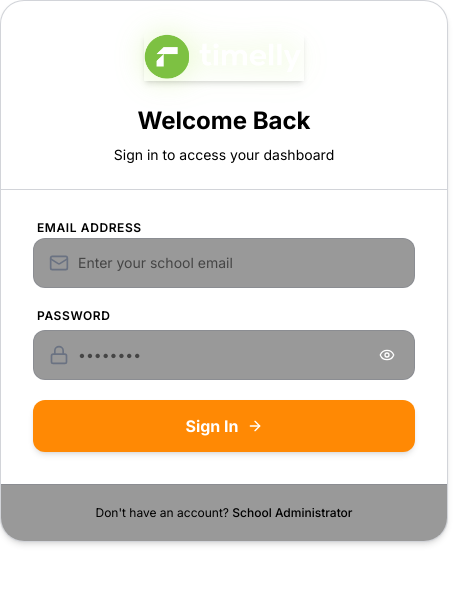
Test: LoginForm › shows error when signIn returns error
Step 1. Type "test@school.com" into the field with placeholder "Enter your school email" → (224, 263), box [33,238,415,288]
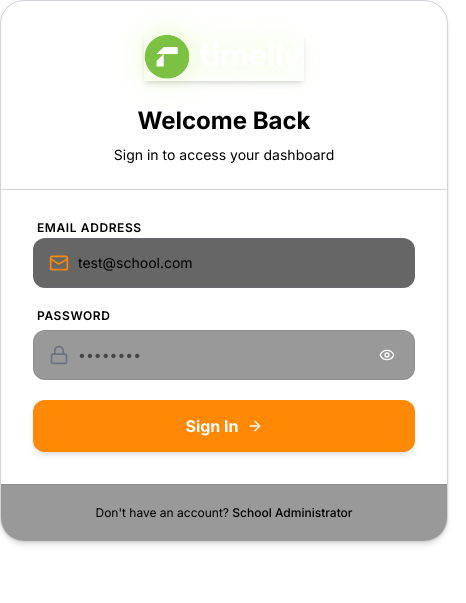
Step 2. Type "pass" into the password field with placeholder "••••••••" → (224, 355), box [33,330,415,380]
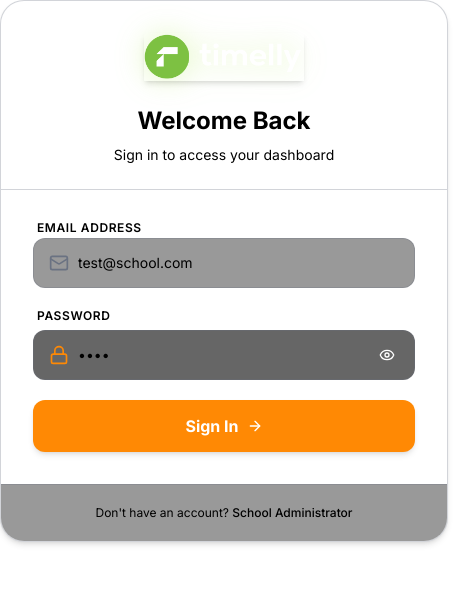
Step 3. Submit the form from the button "Sign In", box [33,400,415,452]
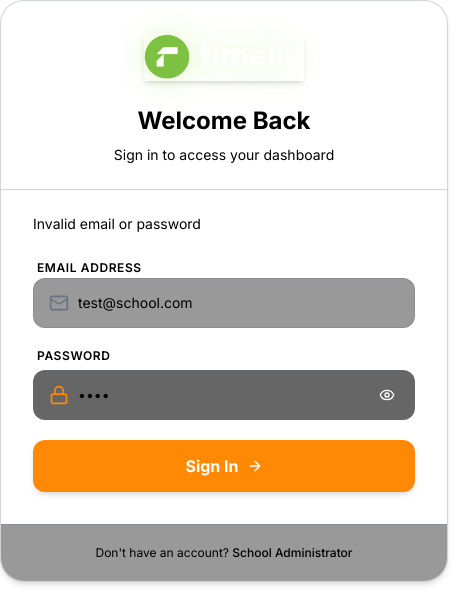
Result: the text "Invalid email or password" is shown at [33,215,201,232]
